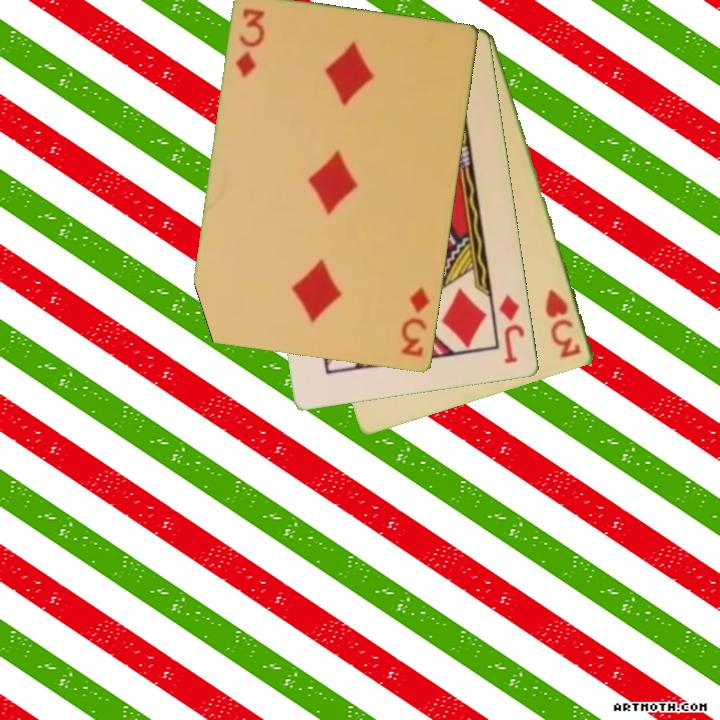3d: (232, 5, 268, 81), (398, 283, 433, 360)
3h: (542, 285, 585, 362)
Jd: (496, 291, 528, 367)
